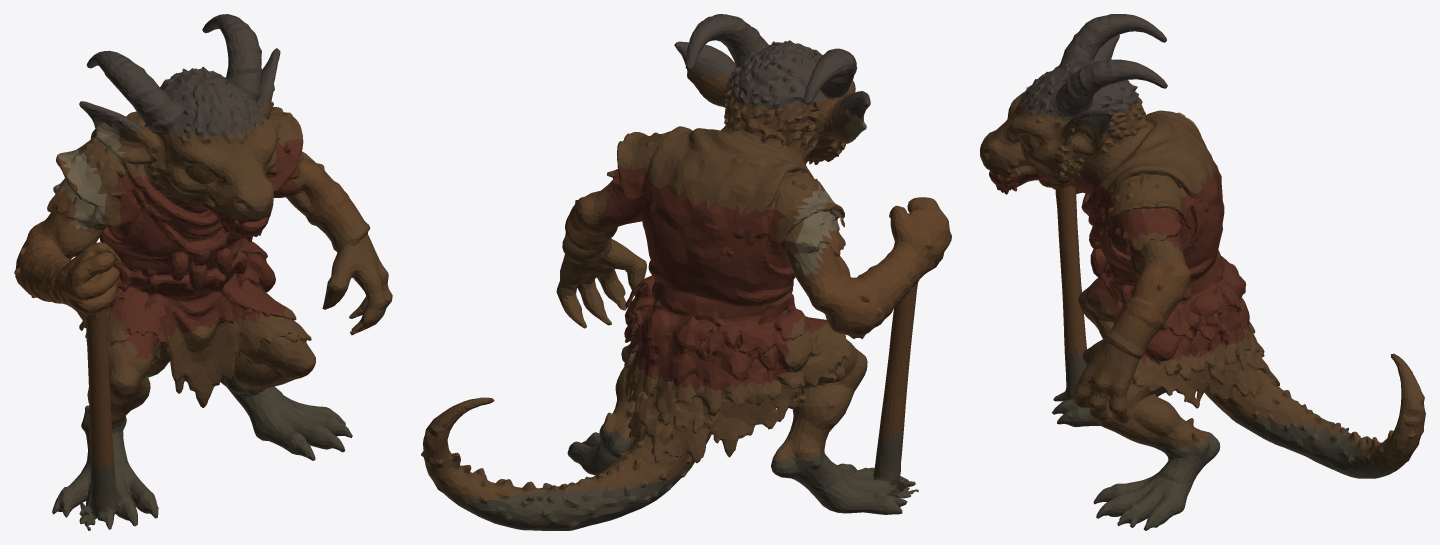
File: kobold_lanceiro_pintado.glb
3 renders of one model, left to right at view 1: azimuth 30°, elevation 25°; view 2: azimuth 150°, elevation 25°; view 3: azimuth 270°, elevation 25°, orthographic. The views are drawn at different scales.
Visible parts, largest first — view 1: tmpghpypemc.ply; view 2: tmpghpypemc.ply; view 3: tmpghpypemc.ply.
Boxes of the visible parts, x1,y1,x2,y2 form: tmpghpypemc.ply: (14,14,392,530); tmpghpypemc.ply: (421,14,951,530); tmpghpypemc.ply: (980,14,1425,530).
Bounding box in the file's own units: 1.61 × 1.96 × 1.91.
